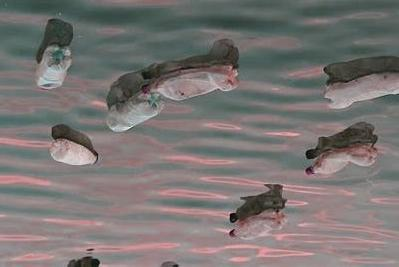Plastic: (140, 63, 238, 102), (323, 68, 399, 108), (303, 139, 378, 177), (105, 86, 166, 132), (32, 41, 72, 91), (229, 207, 287, 241), (46, 137, 101, 167)
